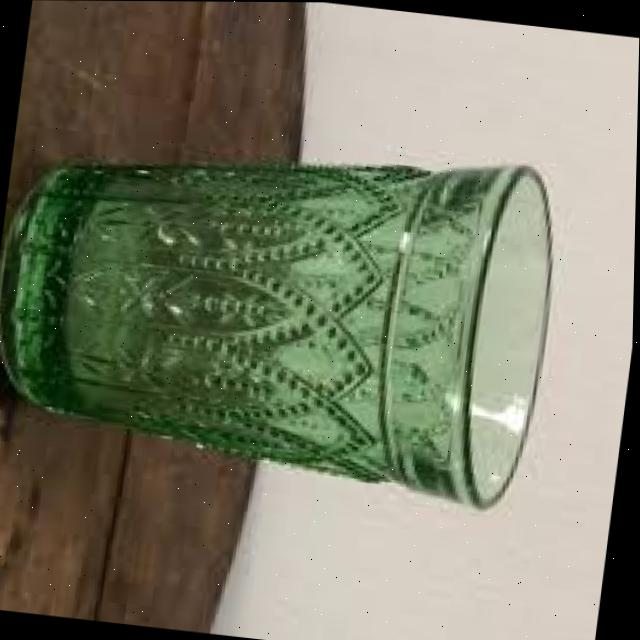Dry: (0, 102, 574, 514)
